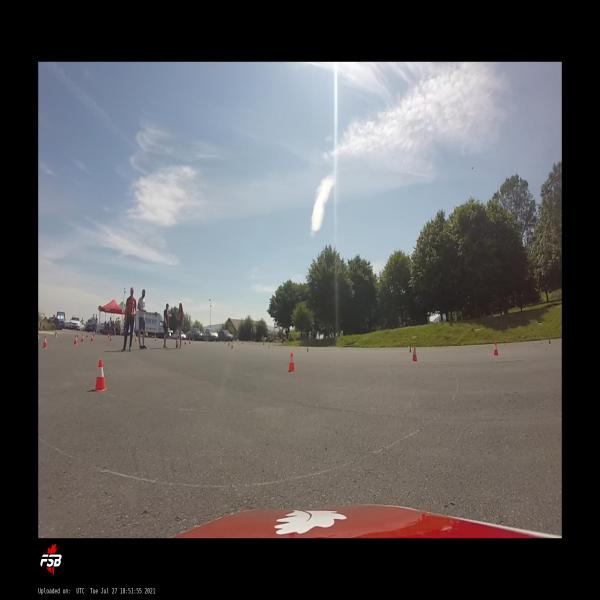orange_cone: (93, 358, 108, 392), (287, 352, 296, 372), (493, 342, 499, 356), (412, 347, 418, 361), (43, 336, 48, 348), (74, 335, 78, 344), (134, 335, 138, 342), (91, 334, 94, 341), (82, 334, 84, 342), (76, 332, 79, 337), (231, 343, 233, 349), (110, 335, 112, 341), (86, 333, 88, 338)
yellow_cone: (268, 344, 270, 350), (56, 331, 58, 337)
